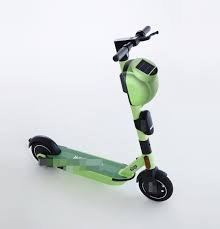kick_board: (27, 24, 172, 201)
kick_handler: (113, 25, 159, 58)
kick_neck: (121, 64, 156, 161)
kick_wheel: (137, 170, 173, 201), (30, 136, 58, 167)
